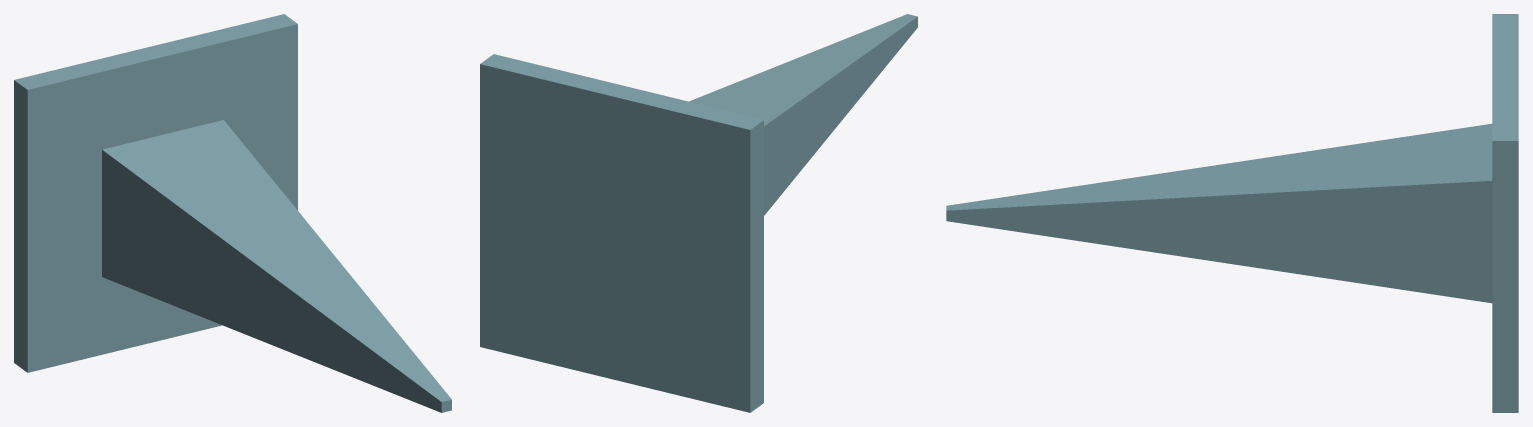
Rendered from SteelNail.fbx.
The picture shows the model from 3 angles, left to right: view 1: azimuth 30°, elevation 25°; view 2: azimuth 150°, elevation 25°; view 3: azimuth 270°, elevation 25°; orthographic projection. The views are drawn at different scales.
Visible parts, largest first — view 1: SteelNail; view 2: SteelNail; view 3: SteelNail.
Boxes of the visible parts, x1,y1,x2,y2 form: SteelNail: (14,14,451,412); SteelNail: (480,14,917,412); SteelNail: (946,14,1518,412).
Bounding box in the file's own units: 1.76 × 3.35 × 1.76.
